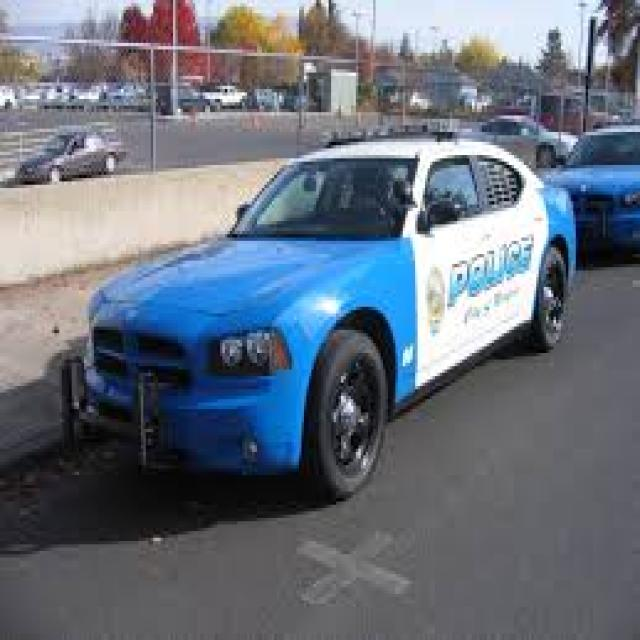cop: (54, 128, 584, 516), (539, 108, 640, 280)
